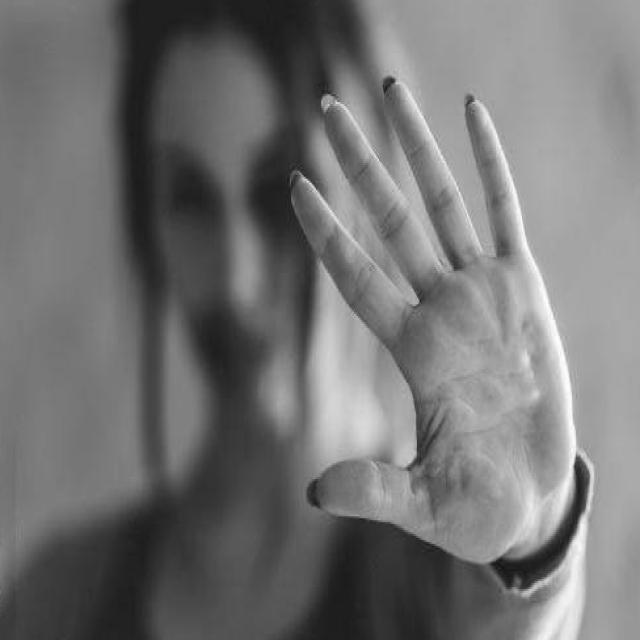stop: (283, 70, 580, 571)
